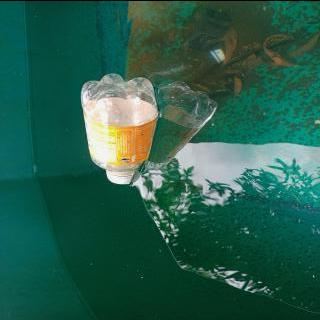bottle: (80, 73, 160, 184)
